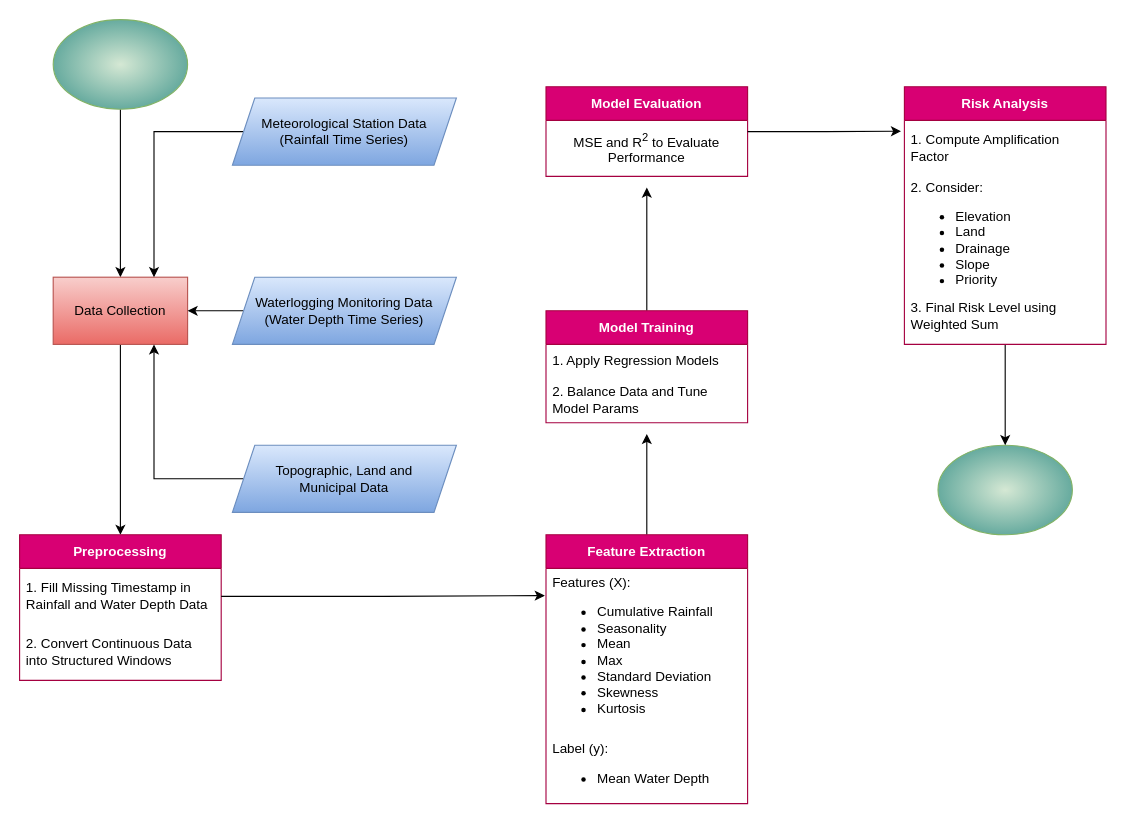
Some shapes in this 1126 by 823 pixel diagram are drawn without their labels. Here are the shapes that lost their labels. From the top down, the centre of each, then its label:
At point 120,63: "Start".
At point 1004,489: "End".
